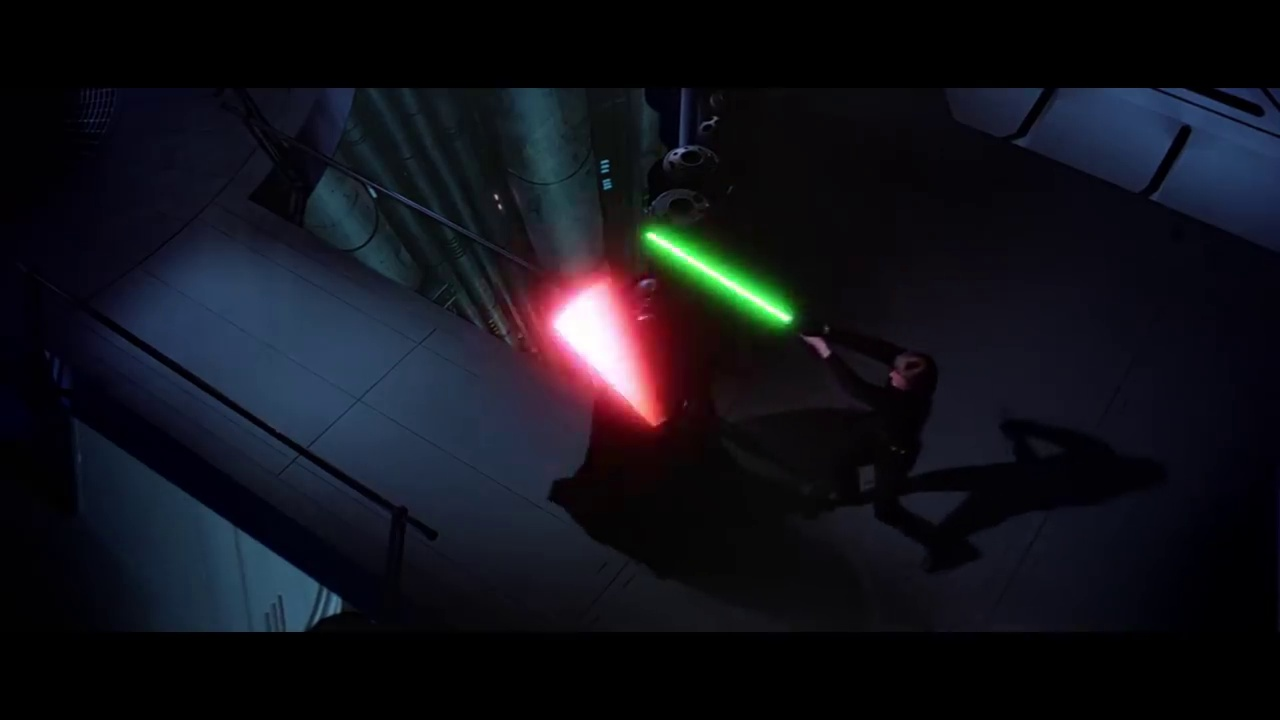lightsaber: (638, 223, 811, 349), (538, 275, 675, 421)
